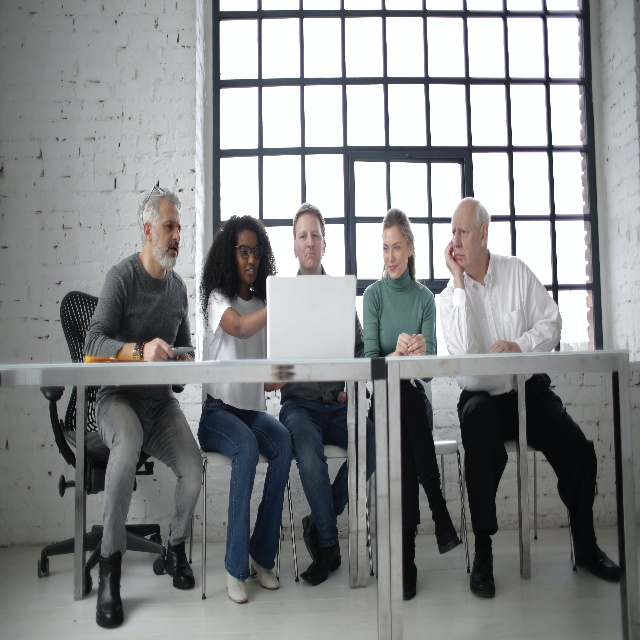Gafas: (141, 185, 165, 227), (233, 245, 263, 260)
Sin_guantes: (142, 338, 173, 362), (444, 240, 463, 277), (487, 340, 518, 354), (395, 332, 412, 357), (408, 333, 426, 356), (337, 390, 346, 404)
